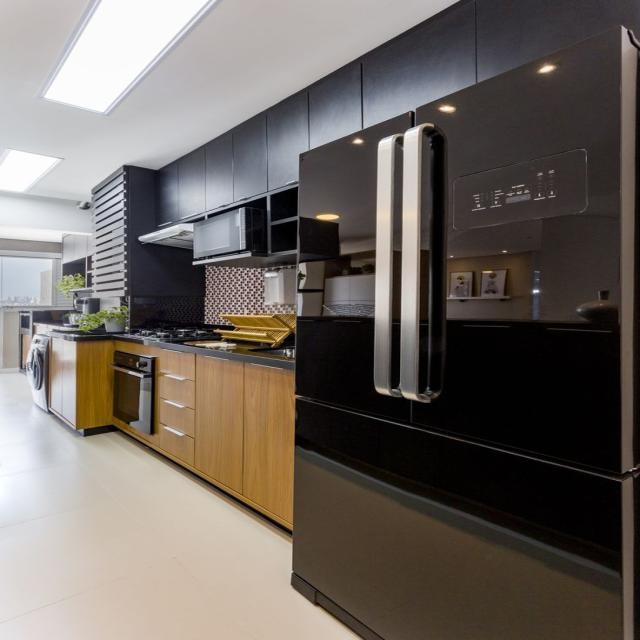obstacle: (288, 24, 638, 638)
